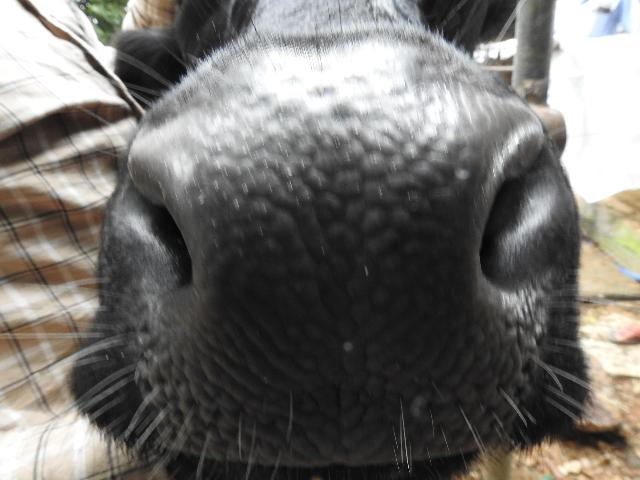Muzzle: (163, 128, 492, 444)
